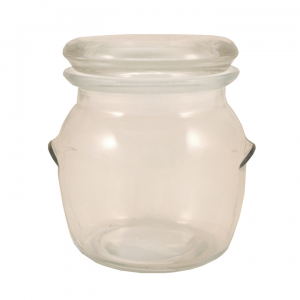Rec_Glass: (38, 26, 269, 274)
